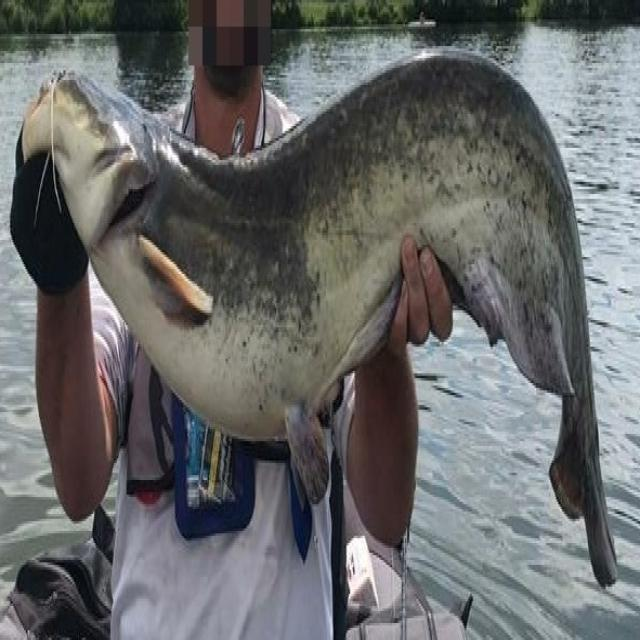Catfish: (18, 19, 630, 626)
